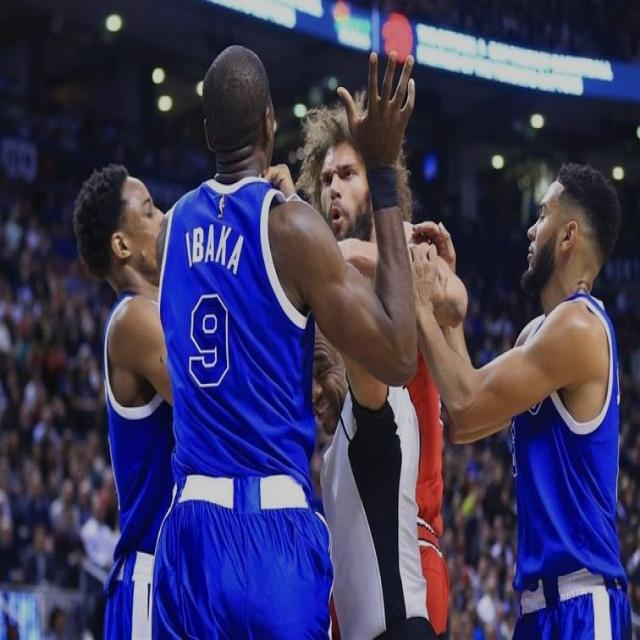fight: (146, 46, 632, 634)
